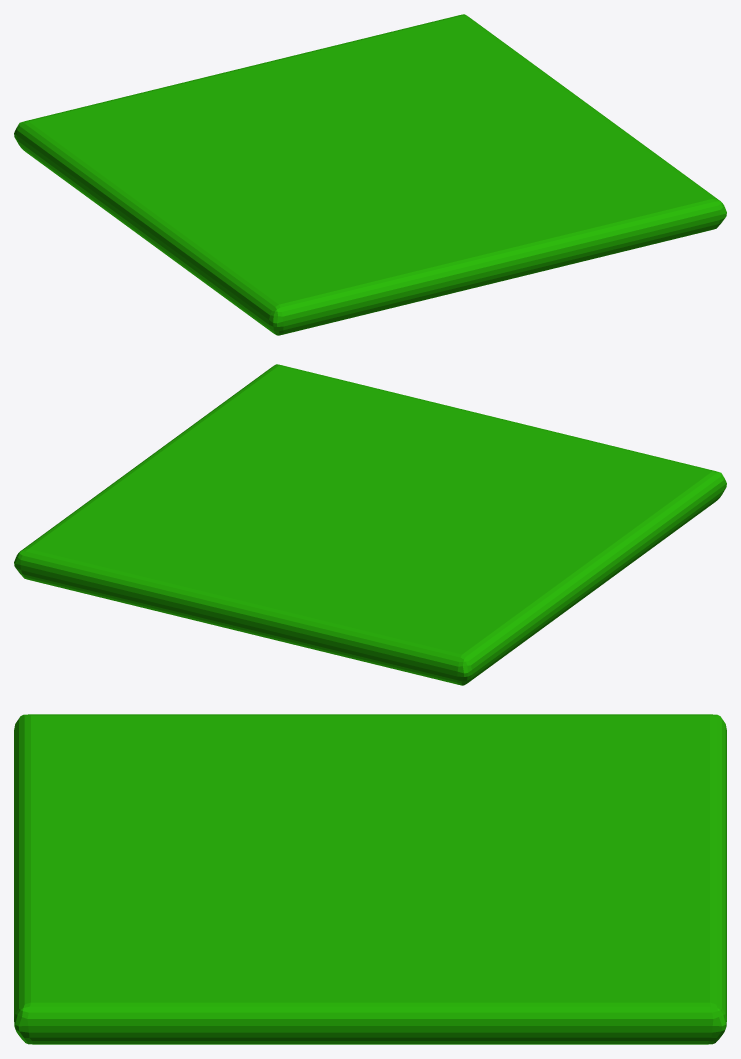
Rendered from stage.glb.
3 renders of one model, top to bottom at view 1: azimuth 30°, elevation 25°; view 2: azimuth 150°, elevation 25°; view 3: azimuth 270°, elevation 25°, orthographic. The views are drawn at different scales.
Parts seen in each view (by area): view 1: Plane; view 2: Plane; view 3: Plane.
Boxes of the visible parts, x1,y1,x2,y2 form: Plane: (14,14,726,335); Plane: (14,364,726,685); Plane: (14,714,726,1044).
Bounding box in the file's own units: 20.31 × 1.35 × 20.31.
